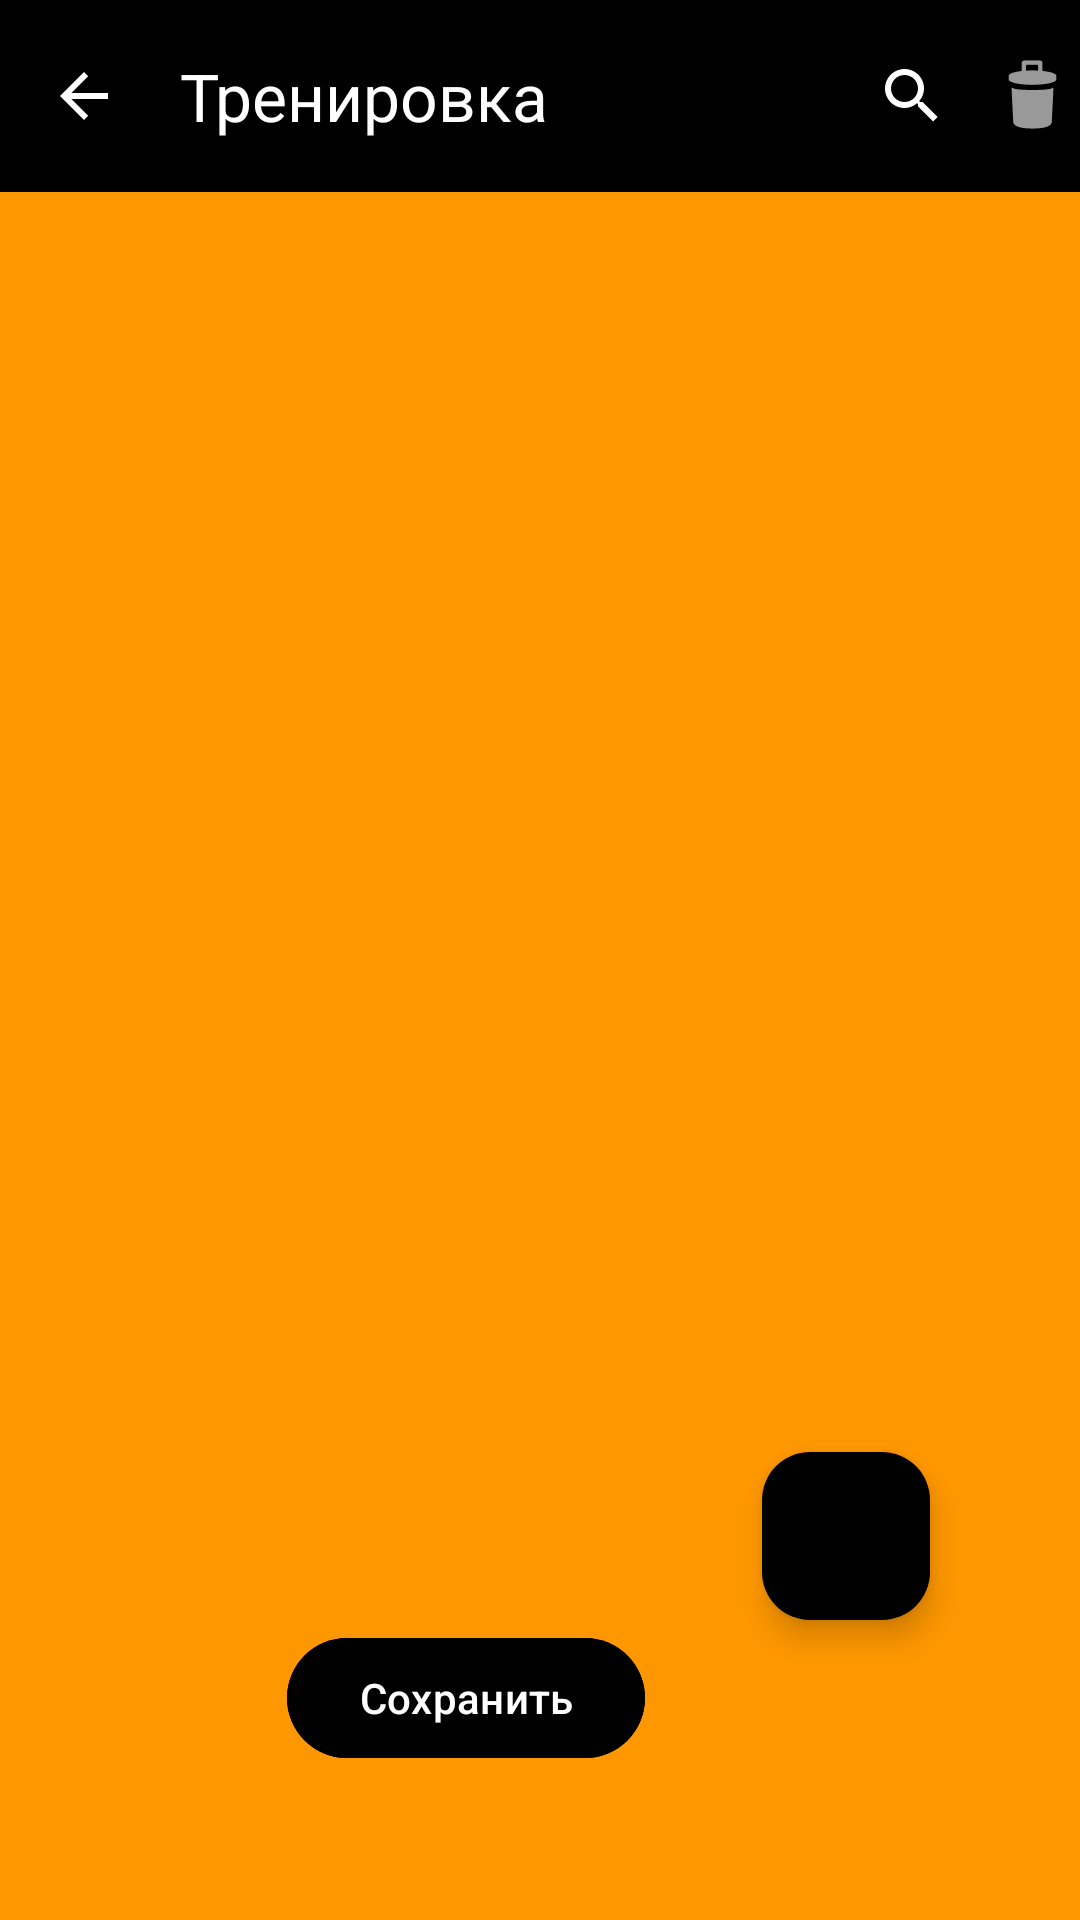

Named icons in this screenshot (1080 x 1920) and their centers, (x=x, y=y):
delete: (x=1032, y=94)
